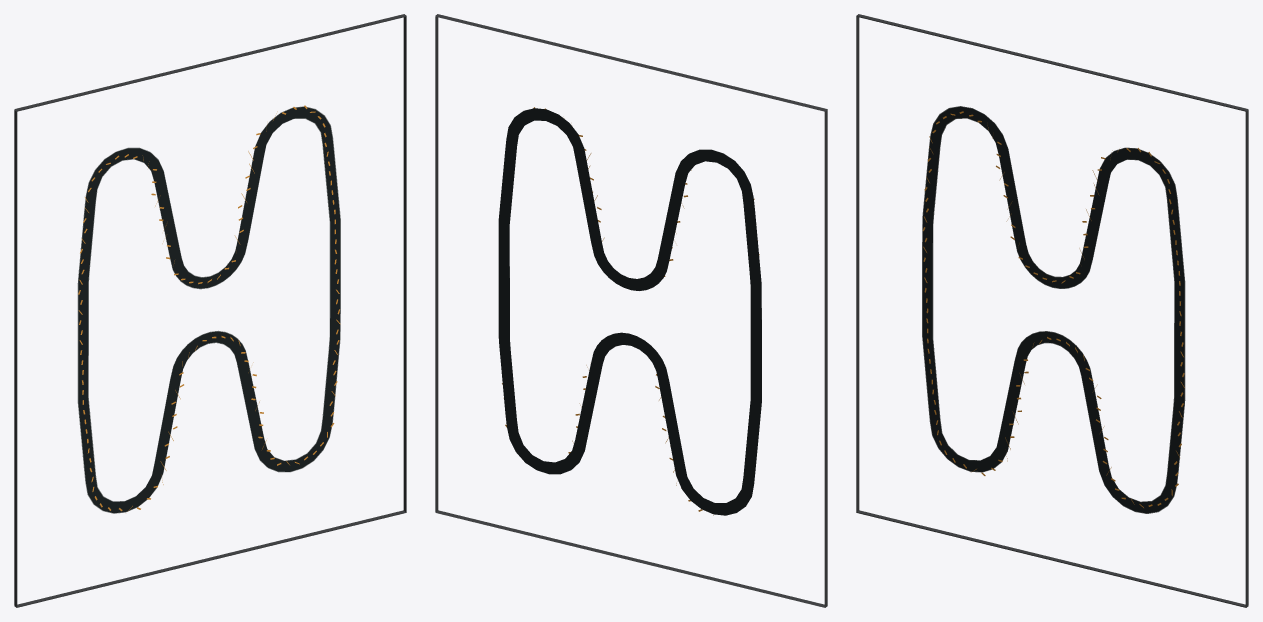
The model's file is track.obj.
3 renders of one model, left to right at view 1: azimuth 30°, elevation 25°; view 2: azimuth 150°, elevation 25°; view 3: azimuth 330°, elevation 25°, orthographic.
Size of the model in its own units: 26.5 by 32.26 by 0.3.
Materials: 4 (4 with a texture image).
